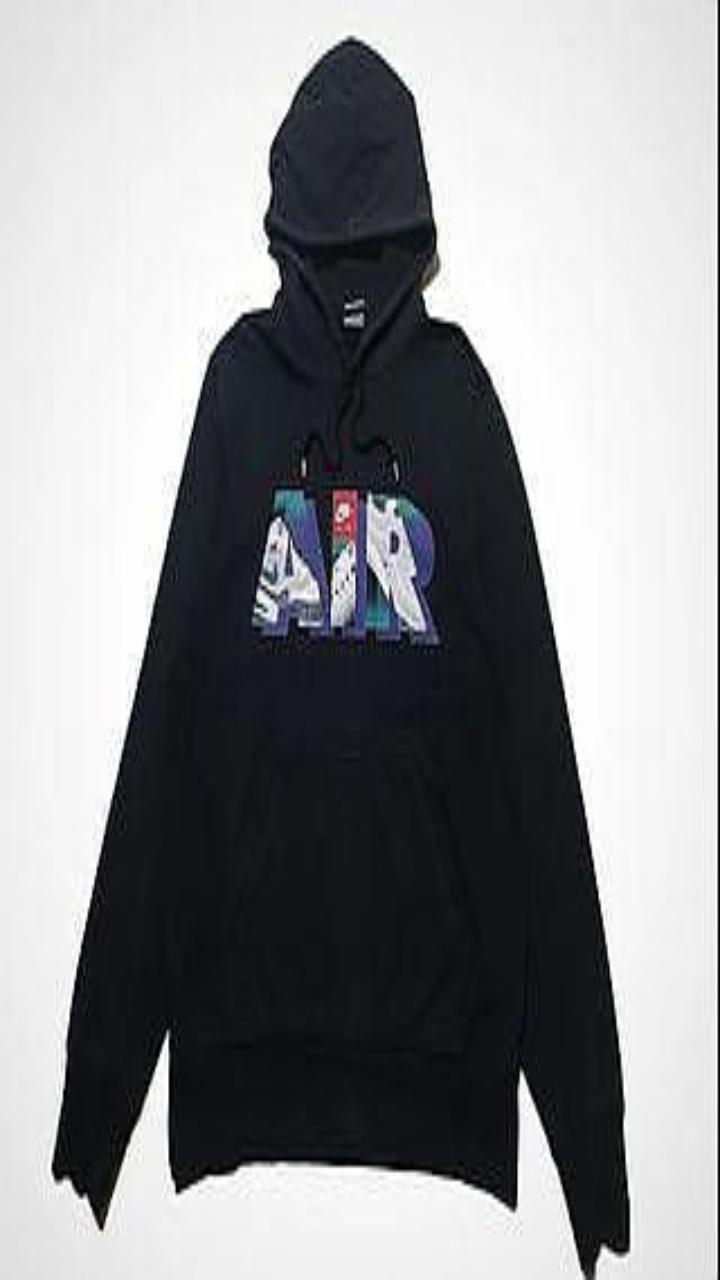Hoodie: (53, 39, 628, 1273)
